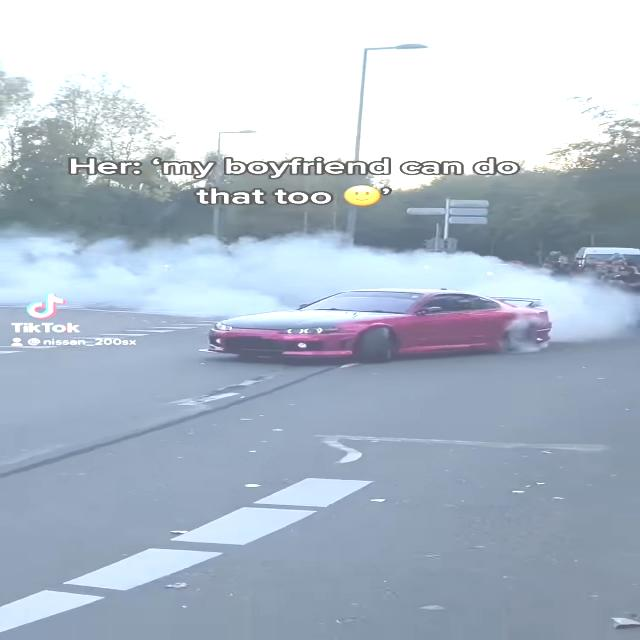car: (204, 290, 561, 364)
